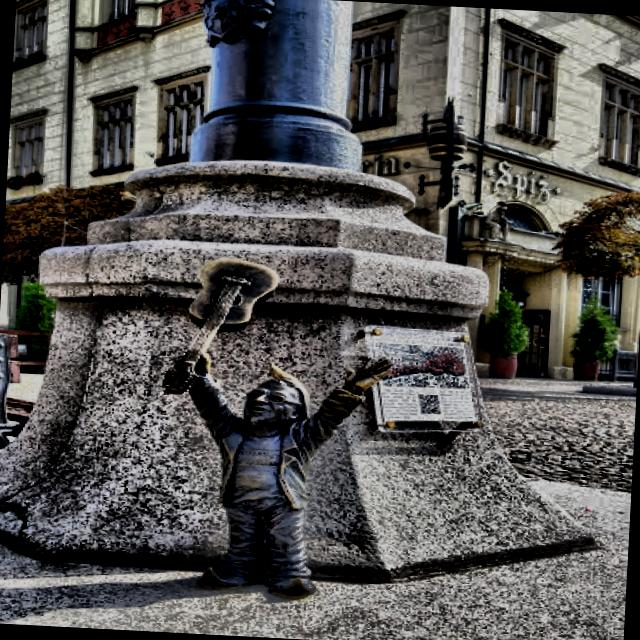Leszko_z_Wroclawia: (163, 257, 393, 600)
